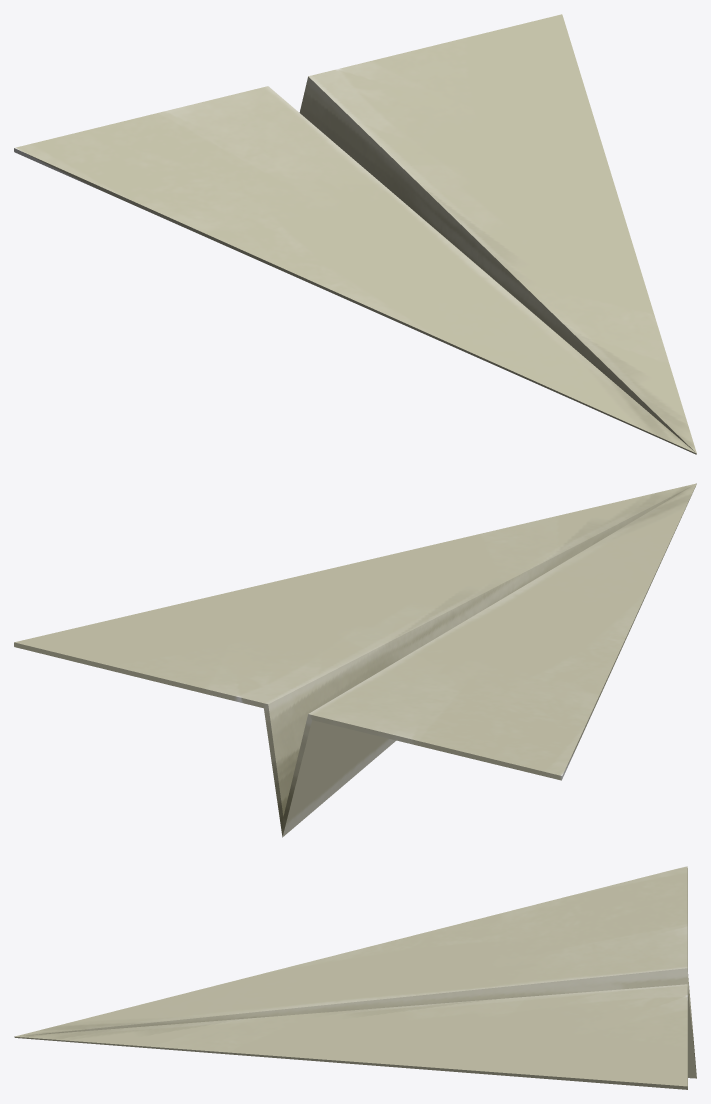
The model's file is paperPlane (2).fbx.
3 views of the same model, one above another, from view 1: azimuth 30°, elevation 25°; view 2: azimuth 150°, elevation 25°; view 3: azimuth 270°, elevation 25° (orthographic). The views are drawn at different scales.
Parts seen in each view (by area): view 1: paperPlane; view 2: paperPlane; view 3: paperPlane.
Boxes of the visible parts, x1,y1,x2,y2 form: paperPlane: (14, 14, 696, 454); paperPlane: (14, 483, 696, 837); paperPlane: (14, 866, 696, 1089).
Bounding box in the file's own units: 14.57 × 3.15 × 19.07.
